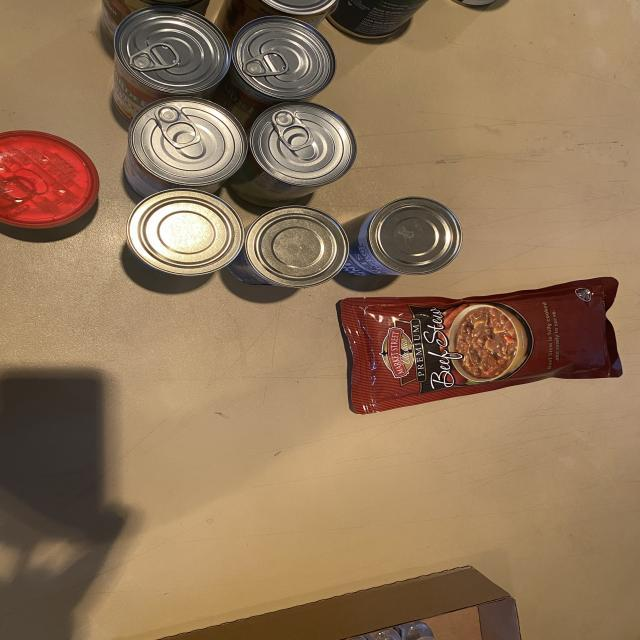Canned Food: (213, 16, 335, 130), (228, 101, 357, 206), (113, 6, 230, 120), (125, 98, 247, 196), (127, 189, 245, 276), (227, 206, 348, 288), (0, 130, 98, 229), (343, 196, 462, 275), (215, 0, 338, 41), (102, 0, 210, 38), (327, 0, 427, 39), (453, 0, 495, 8)
Seasoning -Thin Package-: (338, 278, 620, 414)
